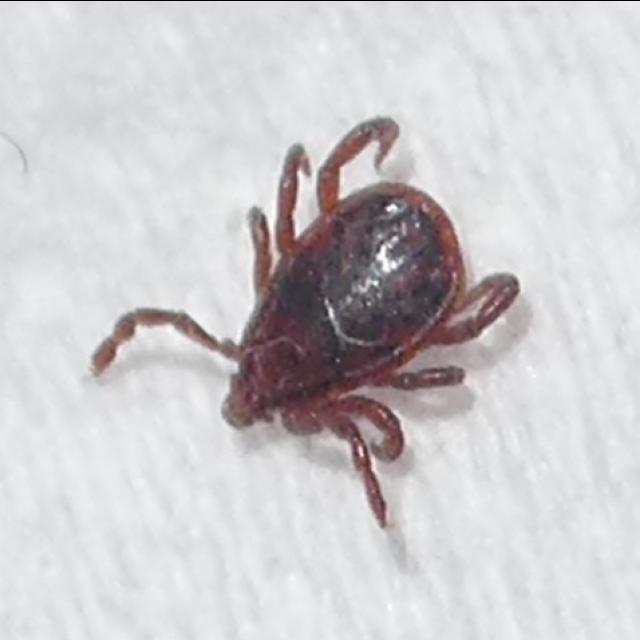Rhipicephalus Sanguineus-M: (90, 114, 521, 528)
